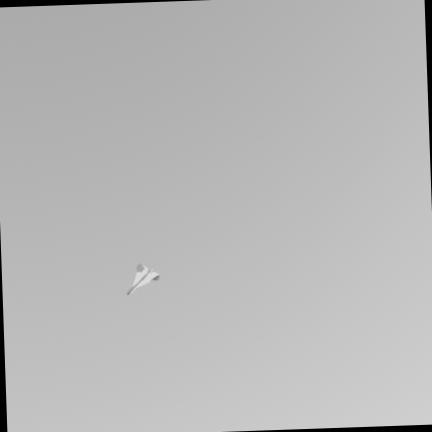Shahed: (127, 262, 163, 295)
